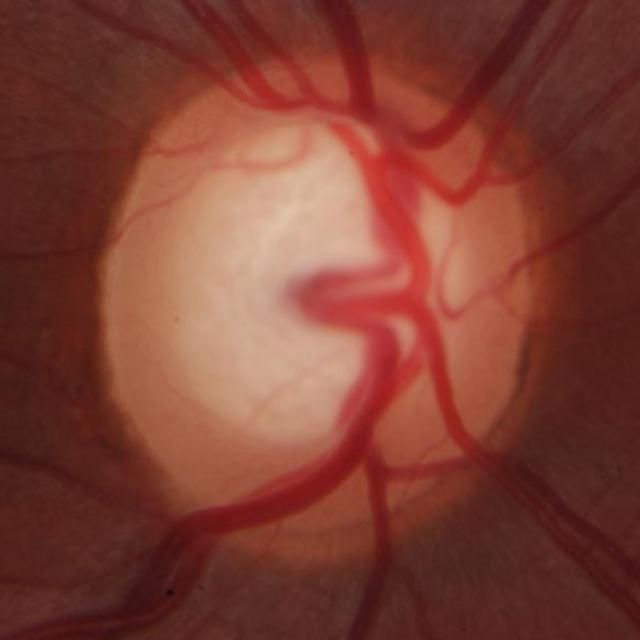OC: (165, 122, 471, 446)
OD: (104, 68, 546, 563)
